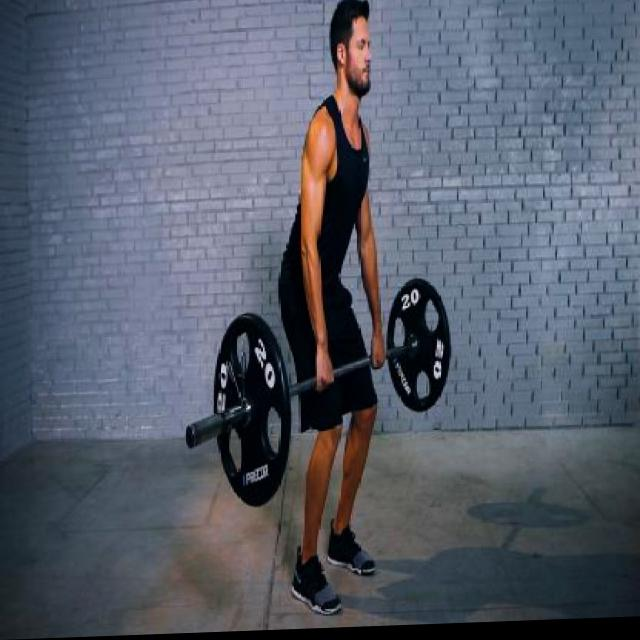barbell: (180, 309, 298, 518)
